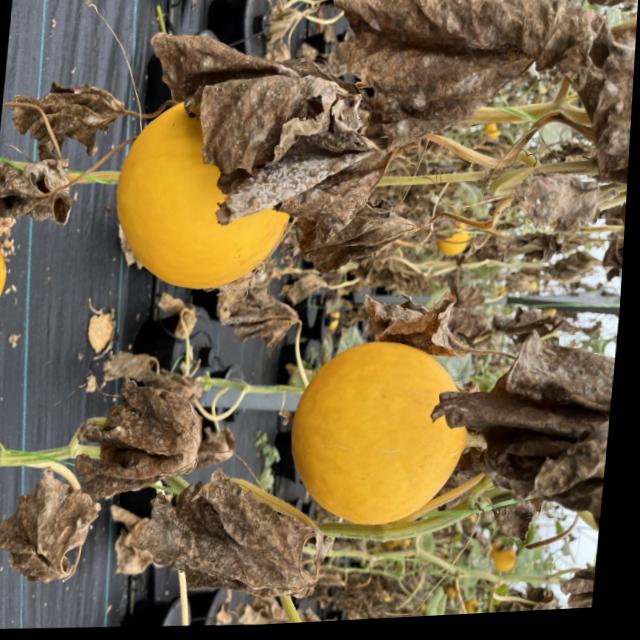bacterial wilt: (320, 0, 606, 139), (414, 336, 617, 516), (138, 19, 343, 187), (127, 489, 313, 611), (79, 364, 211, 508), (227, 120, 386, 225), (0, 469, 93, 604), (9, 68, 135, 158), (349, 288, 475, 373), (584, 0, 639, 188), (290, 200, 414, 277), (0, 156, 79, 244)
